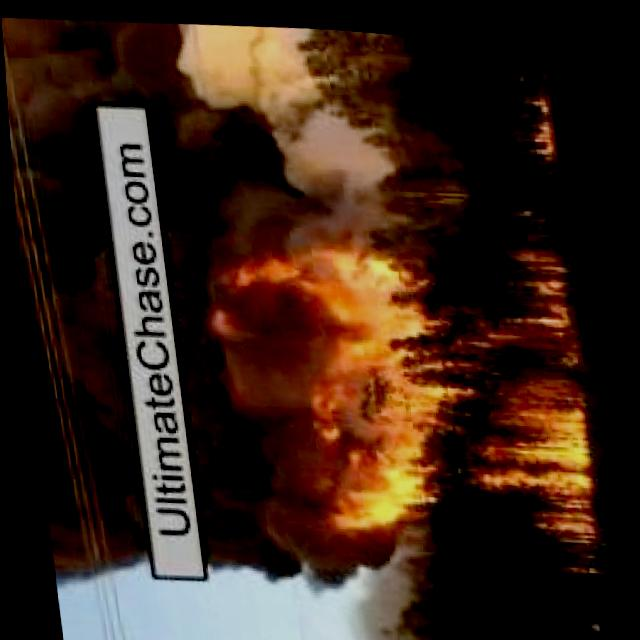helmet: (270, 222, 593, 544), (523, 77, 557, 155)
no_helmet: (144, 11, 351, 584), (1, 12, 139, 593)
